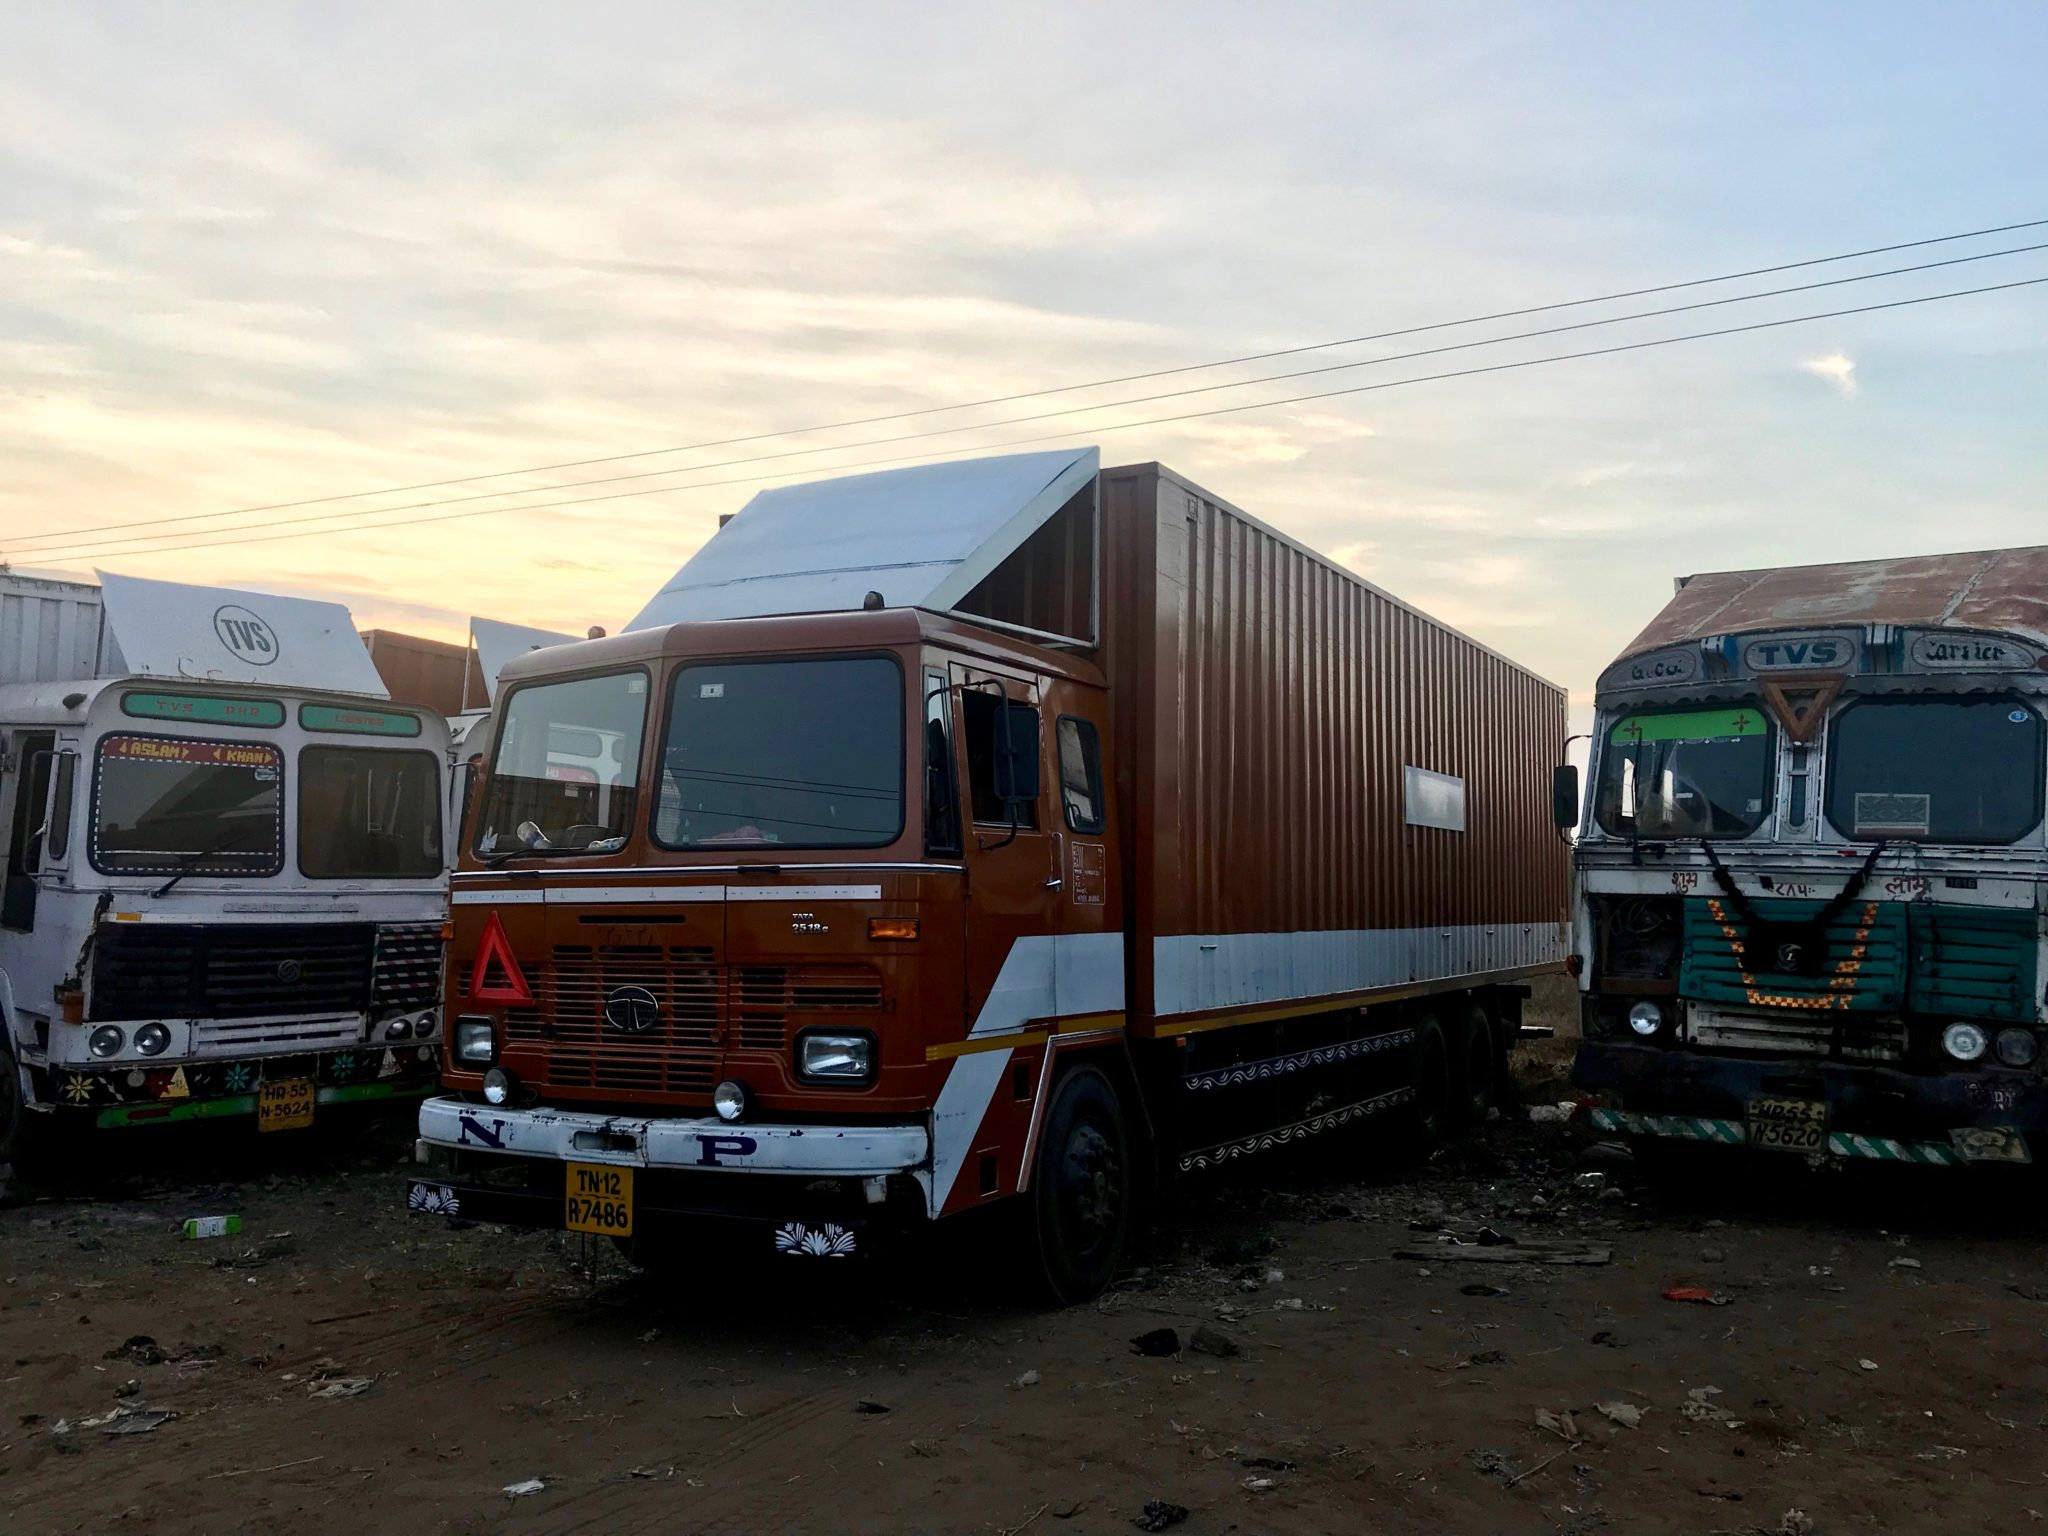truck: (453, 502, 1543, 1305), (1571, 578, 2048, 1218), (5, 561, 439, 1191)
